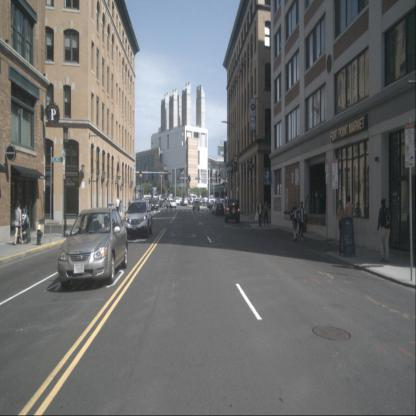human-pedestrian-adult: (376, 199, 392, 263), (344, 196, 354, 248), (14, 200, 24, 246), (291, 201, 301, 243), (336, 200, 345, 246), (298, 202, 306, 241), (255, 201, 264, 228), (263, 200, 271, 227), (116, 196, 120, 218), (119, 200, 122, 218), (128, 198, 131, 212)
vehicle-car: (57, 207, 128, 289), (123, 199, 152, 237), (225, 199, 240, 223), (215, 202, 224, 216), (212, 200, 221, 214), (208, 201, 219, 211), (166, 199, 176, 209), (150, 200, 158, 210), (172, 196, 180, 206), (180, 198, 188, 207), (192, 202, 200, 210), (158, 200, 165, 208)
